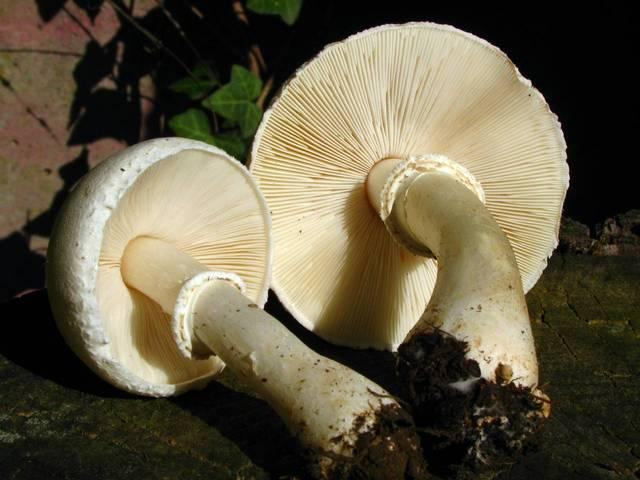poisonous_mushroom: (238, 3, 614, 454), (44, 134, 273, 399)
